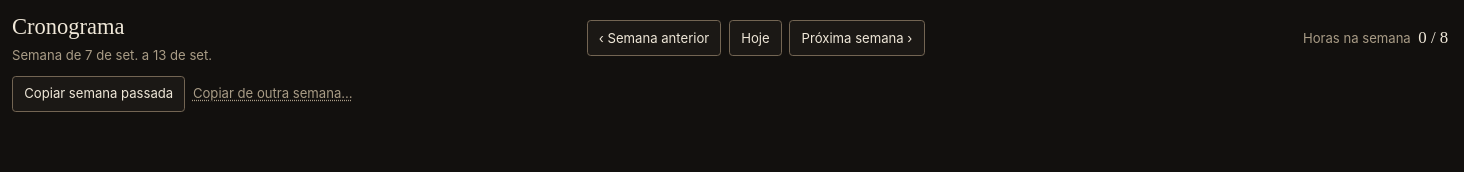
Scenario: CabecalhoDeSemana — semana modelo › cancelar 'outra semana' enquanto a verificação está em voo descarta a resposta tardia — não abre a confirmação
The width and height of the screenshot is (1464, 172).
Click the button "Copiar de outra semana…".
click(273, 94)  # box [193,84,353,103]
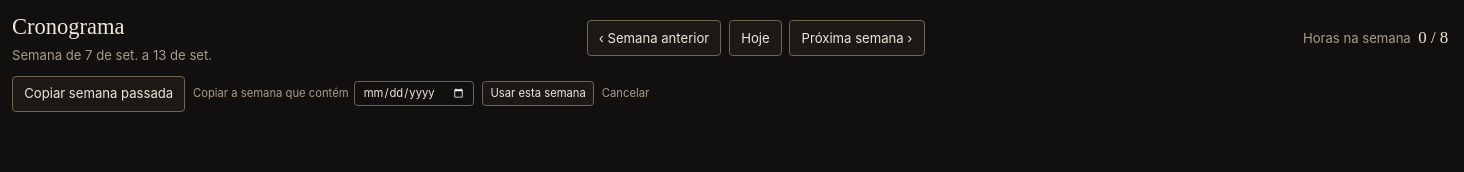
Type "2026-08-20" into the date field labelled "Copiar a semana que contém".
click(414, 94); type("2026-08-20")  # box [354,81,474,106]
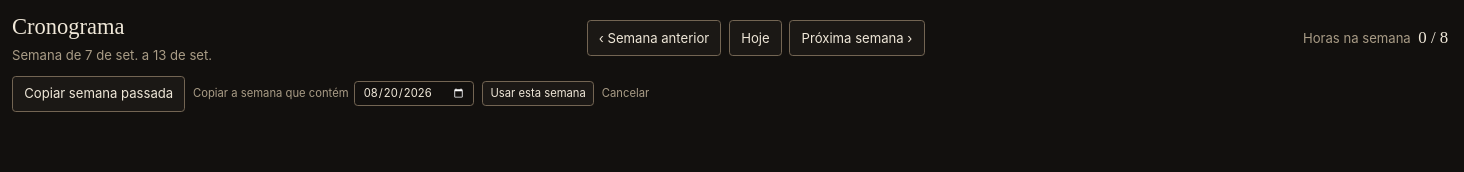
Click the button "Usar esta semana".
click(538, 94)  # box [482,81,594,106]
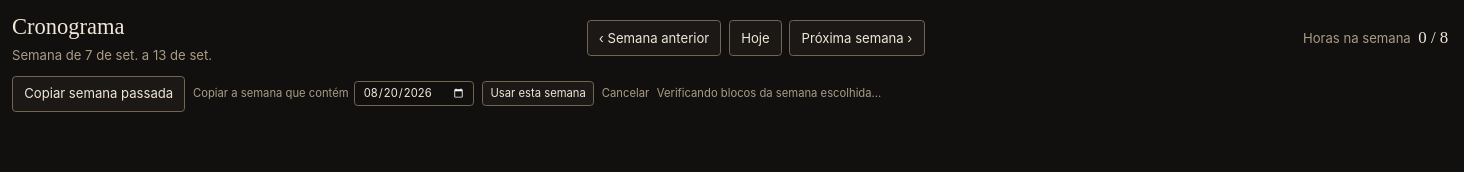
Expected: the text "Verificando blocos da semana escolhida…" is shown, [657,86,881,101]
Click the button "Cancelar".
click(626, 94)  # box [602,86,649,101]
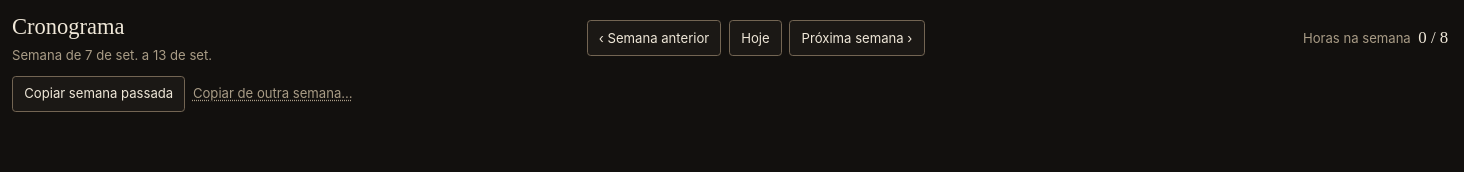
Expected: the text "Verificando blocos da semana escolhida…" is gone
